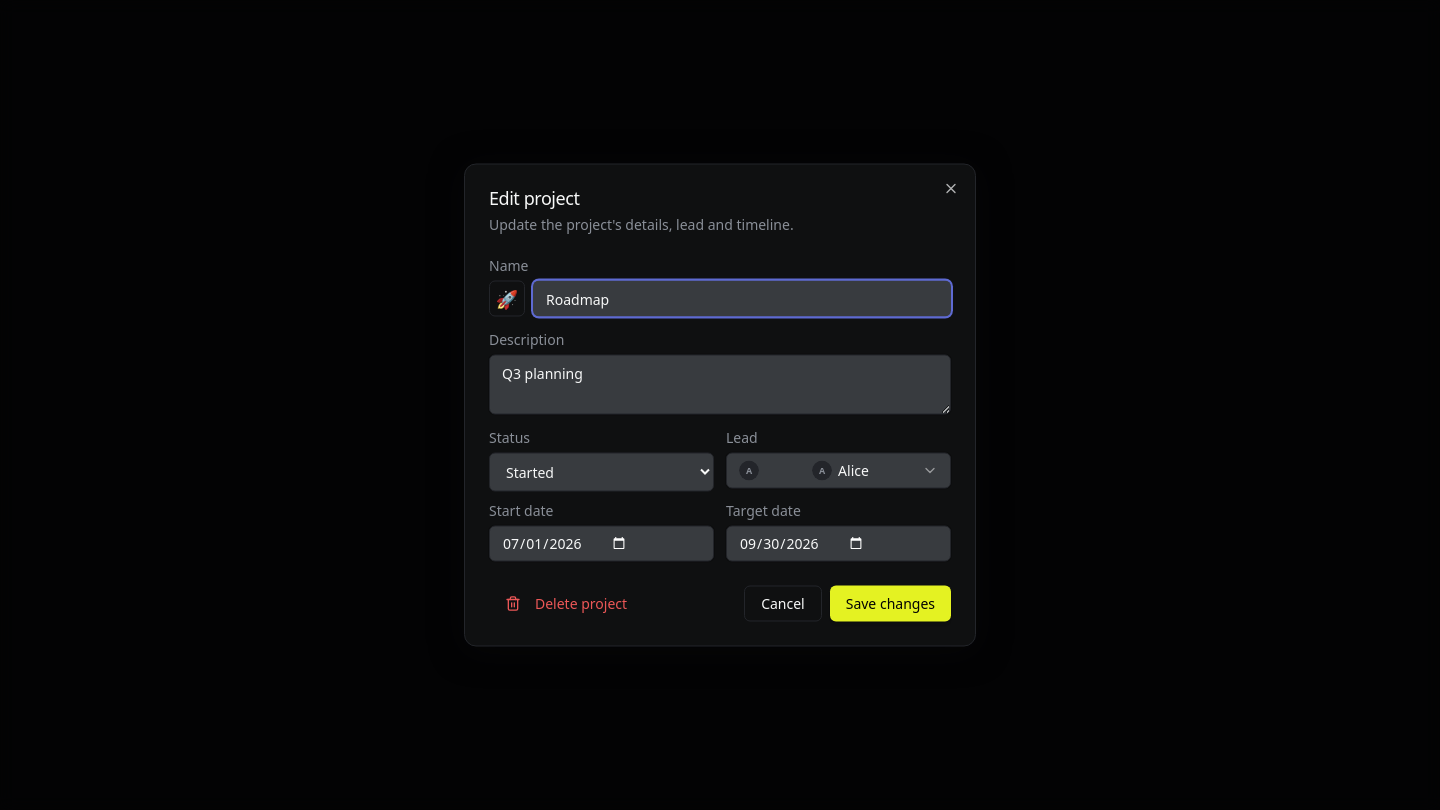
Test case: EditProjectDialog › disables Save while the name is empty
Clear the field labelled "Name" at (742, 298), box [533,280,951,316]
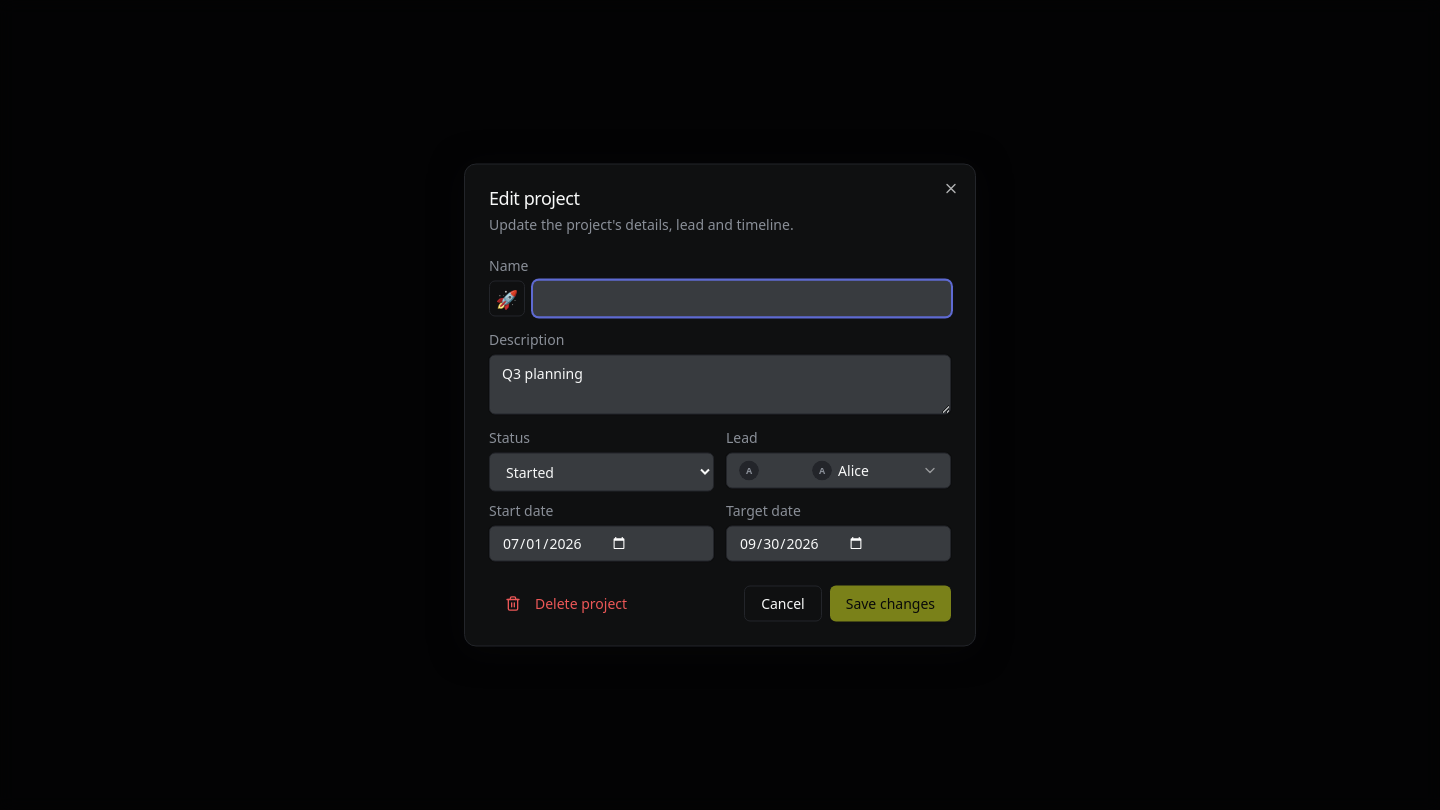
expect the button "Save changes" is disabled: met, box [830,586,951,622]
